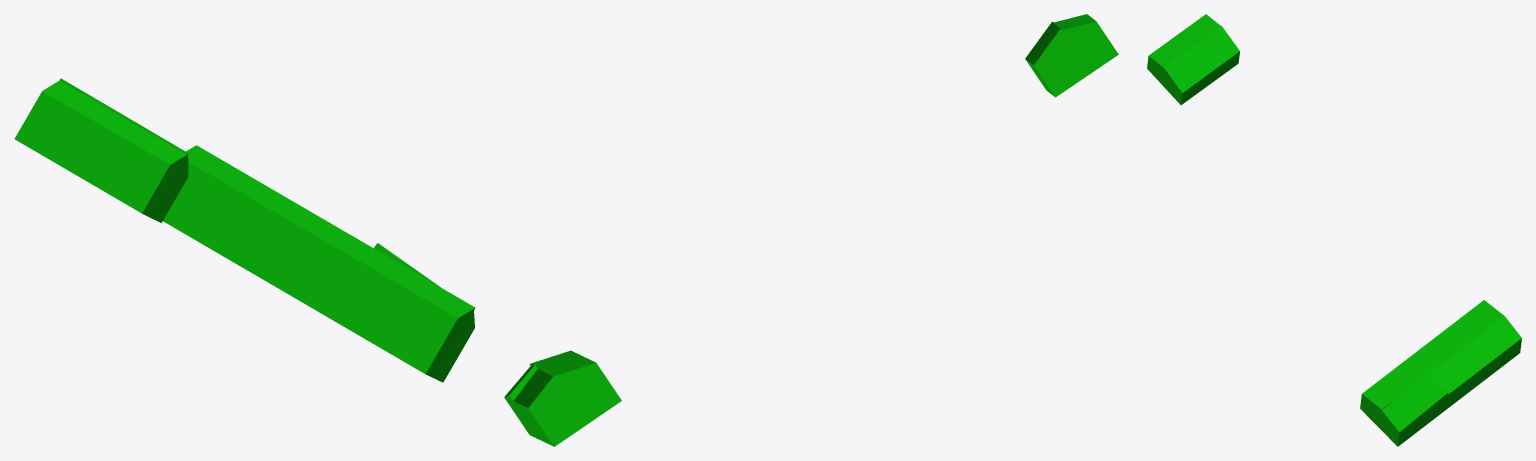
3 views of the same model, side by side, from view 1: azimuth 30°, elevation 25°; view 2: azimuth 150°, elevation 25°; view 3: azimuth 270°, elevation 25° (orthographic). The views are drawn at different scales.
Visible parts, largest first — view 1: mesh; view 2: mesh; view 3: mesh.
Boxes of the visible parts, <box> form: mesh: <box>14,78,475,382</box>; mesh: <box>504,14,1118,446</box>; mesh: <box>1147,14,1521,446</box>.
Size of the model in its own units: 52.87 by 44.43 by 52.37.
